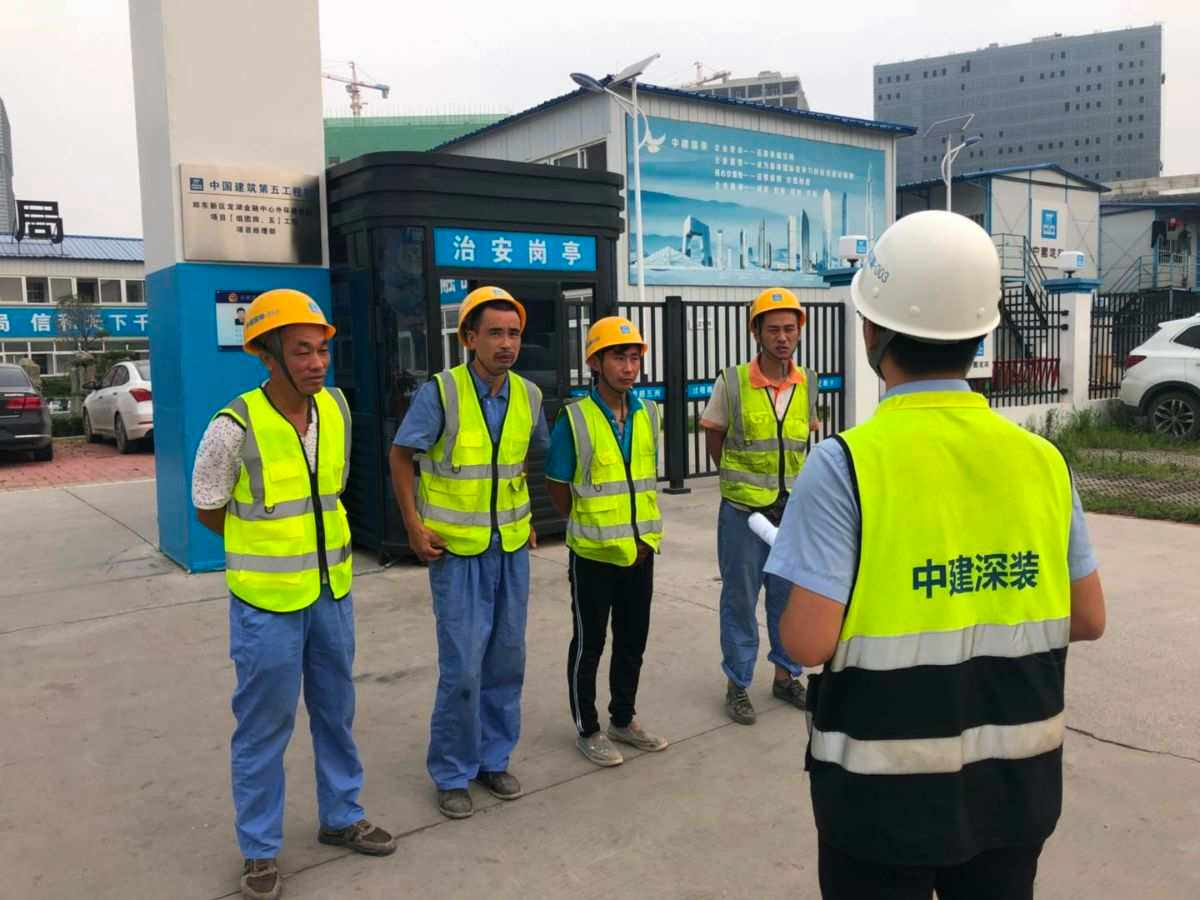person: (760, 203, 1111, 900), (186, 285, 399, 900), (383, 283, 549, 818), (544, 307, 673, 769), (695, 288, 823, 730)
reflective_vest: (804, 388, 1071, 825), (210, 384, 356, 620), (415, 364, 546, 559), (559, 393, 666, 568), (714, 360, 819, 510)
safety_helmet: (845, 205, 1007, 388), (239, 286, 338, 399), (453, 283, 529, 373), (583, 312, 651, 391), (748, 285, 810, 361)
